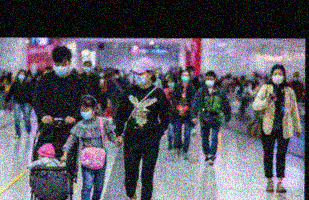with_mask: (52, 61, 70, 77), (132, 72, 148, 87), (78, 107, 93, 121), (271, 71, 285, 85), (203, 76, 216, 88), (179, 73, 190, 83), (166, 79, 176, 89), (16, 71, 26, 80), (82, 63, 91, 73), (98, 70, 105, 78), (113, 72, 120, 79), (293, 75, 300, 82)
